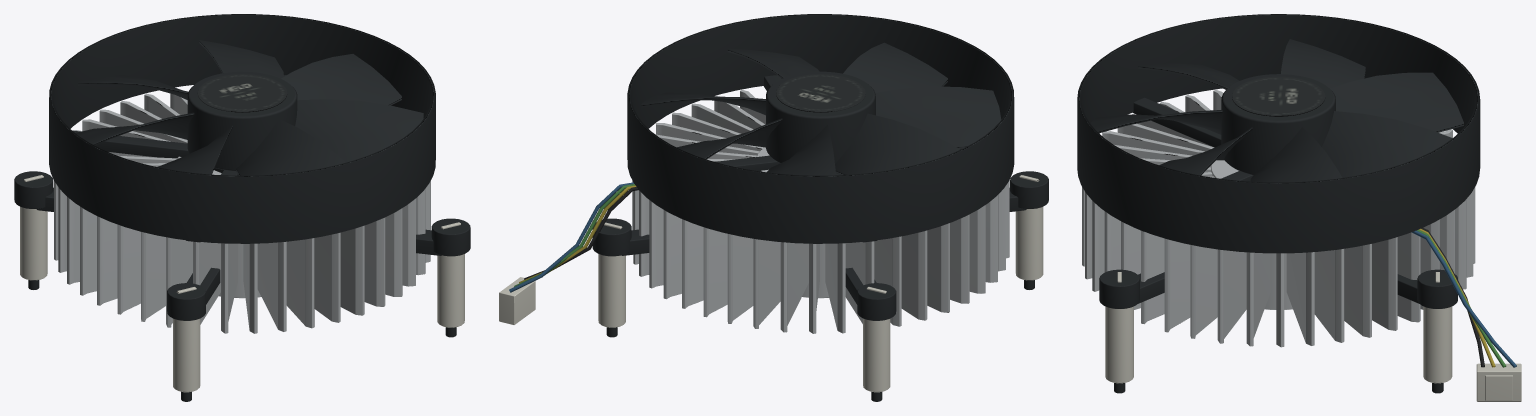
File: PC_CPUCooler_LOD0.fbx
3 renders of one model, left to right at view 1: azimuth 30°, elevation 25°; view 2: azimuth 150°, elevation 25°; view 3: azimuth 270°, elevation 25°, orthographic. The views are drawn at different scales.
Parts seen in each view (by area): view 1: Body_LOD0, Rotor_LOD0; view 2: Body_LOD0, Rotor_LOD0; view 3: Body_LOD0, Rotor_LOD0.
Boxes of the visible parts, x1,y1,x2,y2 form: Body_LOD0: (14,14,470,401); Rotor_LOD0: (75,40,423,175); Body_LOD0: (499,14,1048,401); Rotor_LOD0: (641,42,1001,175); Body_LOD0: (1077,14,1521,401); Rotor_LOD0: (1091,39,1463,182).
Bounding box in the file's own units: 0.1062 × 0.0593 × 0.1048.
